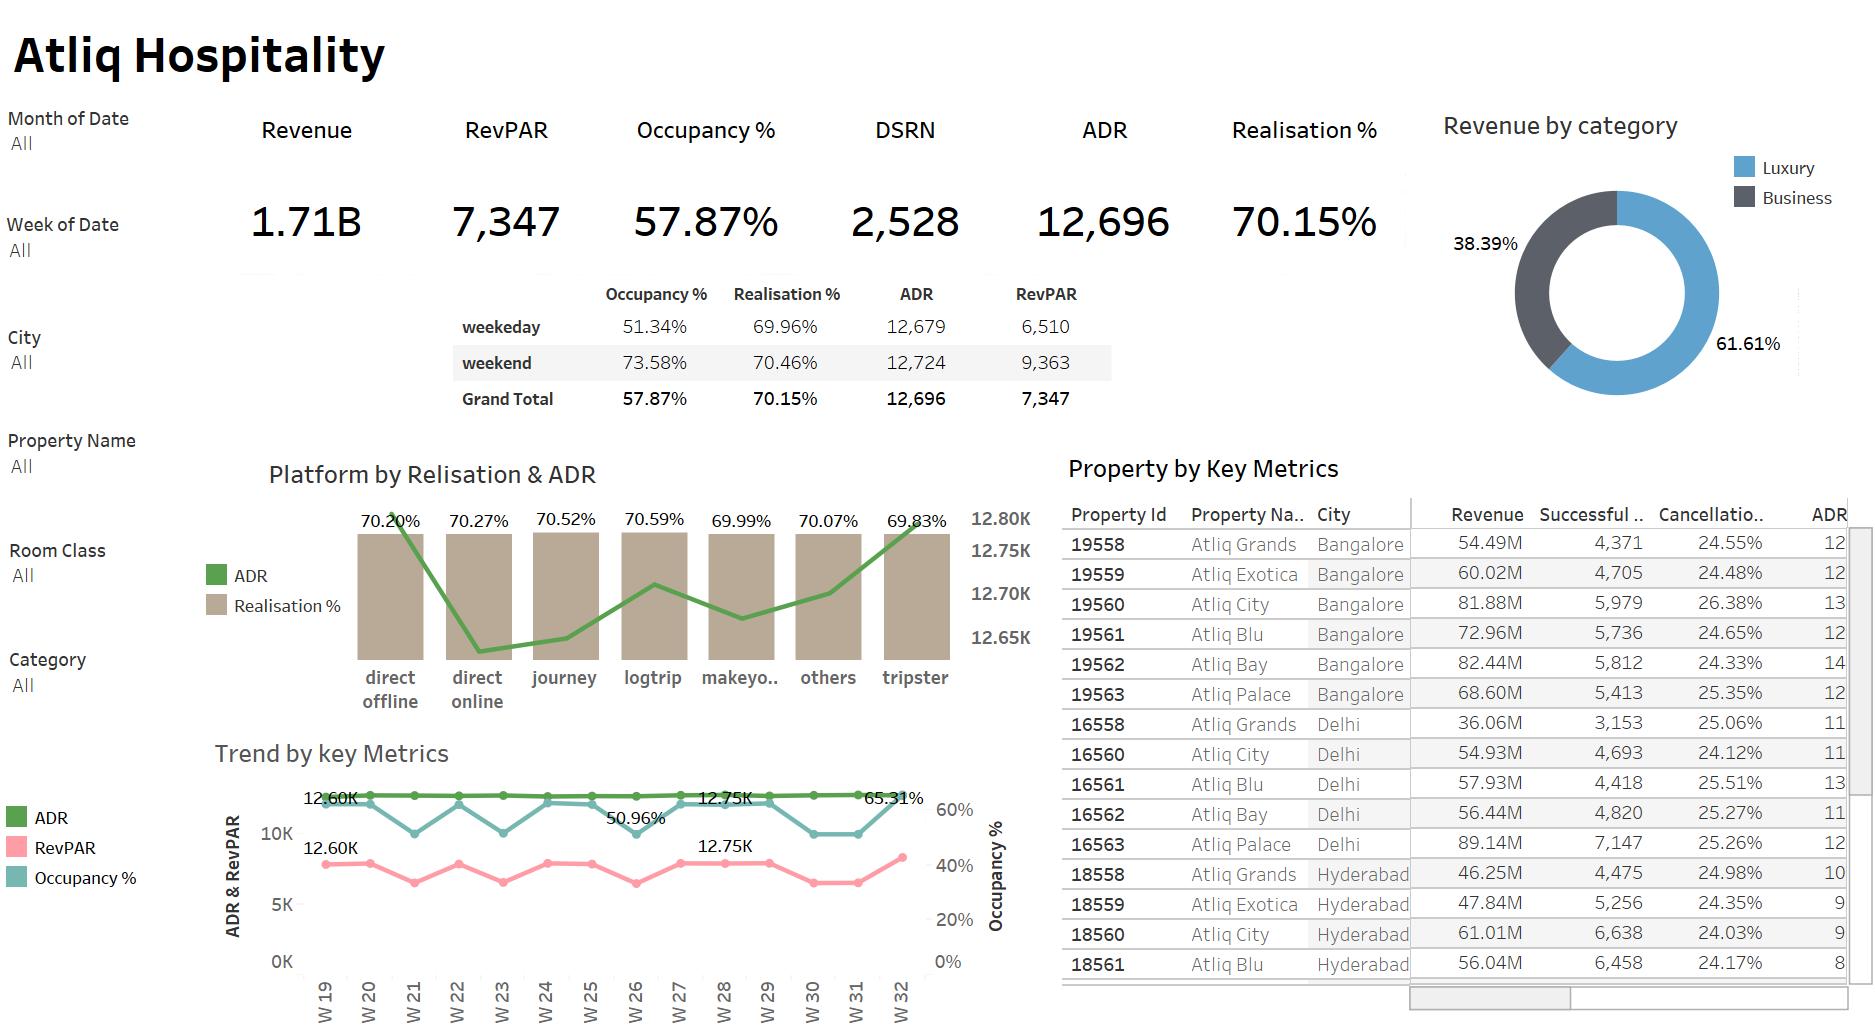

The dashboard page shown, as its layout file describes it:
{"tool":"tableau","page":{"name":"Dashboard 1","canvas":[1250,690],"ordinal":0},"visuals":[{"type":"text","box":[6,7,428,56]},{"type":"worksheet","title":"KPI","mark":"Automatic","box":[138,60,798,122]},{"type":"worksheet","title":"Revenue by category","mark":"Pie","rows":["Calculation_1427078170288148484","Calculation_1427078170288148484"],"box":[958,66,240,221]},{"type":"filter","title":"KPI","param":"[federated.1jd8yl60bhj12w106quqs1khw35i].[mn:date:ok]","box":[4.7,68.6,126.4,65.1]},{"type":"legend","title":"Revenue by category","param":"[federated.1jd8yl60bhj12w106quqs1khw35i].[none:category:nk]","box":[1153,101,80,69]},{"type":"filter","title":"KPI","param":"[federated.1jd8yl60bhj12w106quqs1khw35i].[wk:date:ok]","box":[3.5,139.7,127.6,55.6]},{"type":"worksheet","title":"Key Metrics - Day type","mark":"Text","rows":["day_type"],"box":[302,186,439,92]},{"type":"filter","title":"KPI","param":"[federated.1jd8yl60bhj12w106quqs1khw35i].[none:city:nk]","box":[4.7,215.4,127.6,50.9]},{"type":"filter","title":"KPI","param":"[federated.1jd8yl60bhj12w106quqs1khw35i].[none:property_name:nk]","box":[4.7,284,126.4,65.1]},{"type":"worksheet","title":"Property by Key Metrics","mark":"Automatic","rows":["property_id","property_name","city"],"box":[708,295,541,379]},{"type":"worksheet","title":"Platform by Relisation & ADR","mark":"Automatic","rows":["Calculation_1532912754822131717","Calculation_1532912754799603716"],"cols":["booking_platform"],"box":[175,299,521,181]},{"type":"filter","title":"KPI","param":"[federated.1jd8yl60bhj12w106quqs1khw35i].[none:room_class:nk]","box":[5.9,357.4,125.2,61.5]},{"type":"legend","title":"Platform by Relisation & ADR","param":"[federated.1jd8yl60bhj12w106quqs1khw35i].[:Measure Names]","box":[134,373,103,50]},{"type":"filter","title":"KPI","param":"[federated.1jd8yl60bhj12w106quqs1khw35i].[none:category:nk]","box":[5.9,429.6,125.2,68.6]},{"type":"worksheet","title":"Trend by key Metrics","mark":"Line","rows":["Calculation_1000925048500154371"],"cols":["week no"],"box":[139,485,540,204]},{"type":"legend","title":"Trend by key Metrics","param":"[federated.1jd8yl60bhj12w106quqs1khw35i].[:Measure Names]","box":[1,534,140,76]}]}

Visuals, with their boxes in screenshot pixels (x1, y1, x2, y2), scaled from the page's 1250x690 canvas onto the 1875x1035 screenshot:
text: Rect(9, 10, 651, 94)
"KPI" worksheet: Rect(207, 90, 1404, 273)
"Revenue by category" worksheet (Pie marks): Rect(1437, 99, 1797, 430)
"KPI" filter: Rect(7, 103, 197, 201)
"Revenue by category" legend: Rect(1730, 152, 1850, 255)
"KPI" filter: Rect(5, 210, 197, 293)
"Key Metrics - Day type" worksheet (Text marks): Rect(453, 279, 1112, 417)
"KPI" filter: Rect(7, 323, 198, 399)
"KPI" filter: Rect(7, 426, 197, 524)
"Property by Key Metrics" worksheet: Rect(1062, 442, 1874, 1011)
"Platform by Relisation & ADR" worksheet: Rect(262, 448, 1044, 720)
"KPI" filter: Rect(9, 536, 197, 628)
"Platform by Relisation & ADR" legend: Rect(201, 560, 356, 634)
"KPI" filter: Rect(9, 644, 197, 747)
"Trend by key Metrics" worksheet (Line marks): Rect(208, 728, 1018, 1034)
"Trend by key Metrics" legend: Rect(2, 801, 212, 915)
